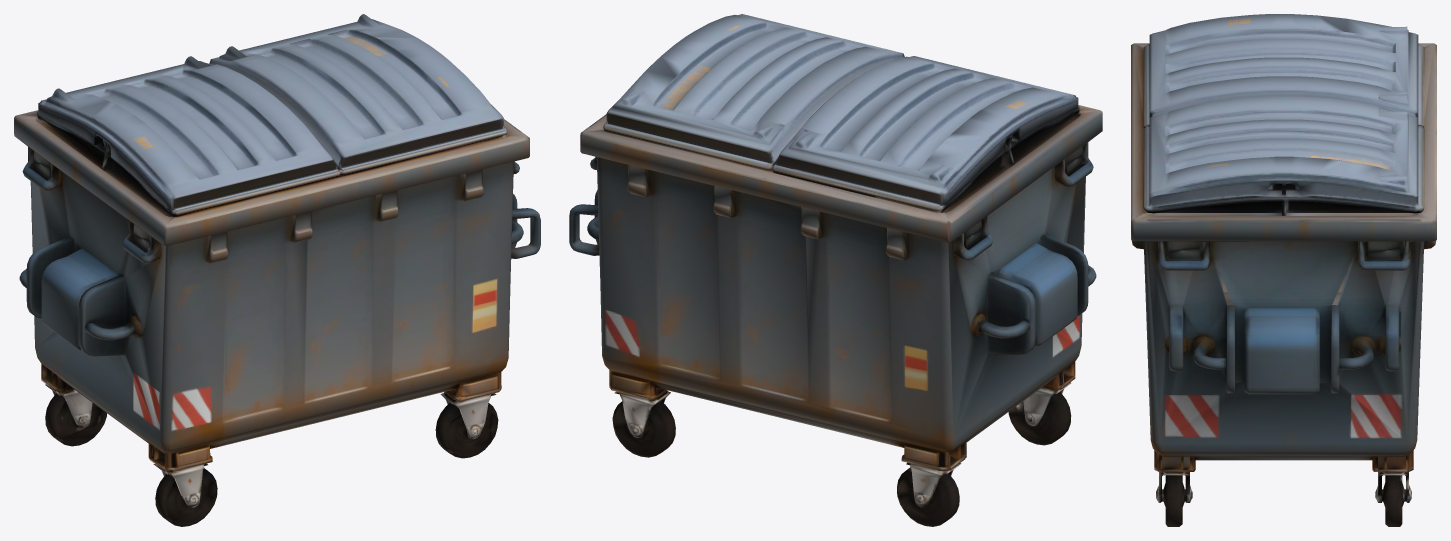
The model's file is large_dumpster_city_realistic_style_736a08e1_v3.glb.
The picture shows the model from 3 angles, left to right: view 1: azimuth 30°, elevation 25°; view 2: azimuth 150°, elevation 25°; view 3: azimuth 270°, elevation 25°; orthographic projection.
Visible parts, largest first — view 1: mesh_input; view 2: mesh_input; view 3: mesh_input.
Part boxes in pixels (x1=…): mesh_input: x1=14, y1=14, x2=540, y2=526; mesh_input: x1=569, y1=14, x2=1102, y2=526; mesh_input: x1=1131, y1=14, x2=1436, y2=526.
Bounding box in the file's own units: 1.9 × 1.52 × 1.16.
Materials: 1 (1 with a texture image).
